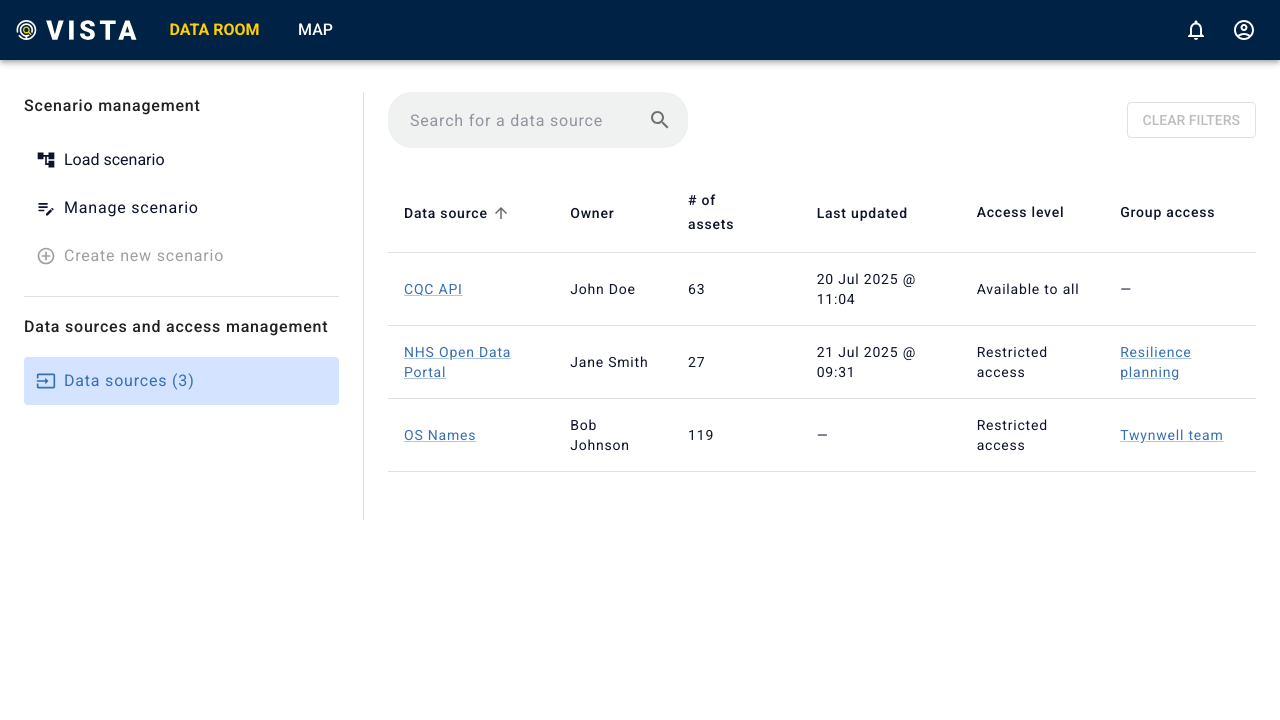
Test: DataSources › Scenario Modal › selects first scenario when no active scenario exists and no sessionStorage
Check: the link "CQC API" is shown, box left=404, top=281, right=463, bottom=297
Step 1. Click the button "Load scenario" → click(114, 160), box left=24, top=136, right=339, bottom=184
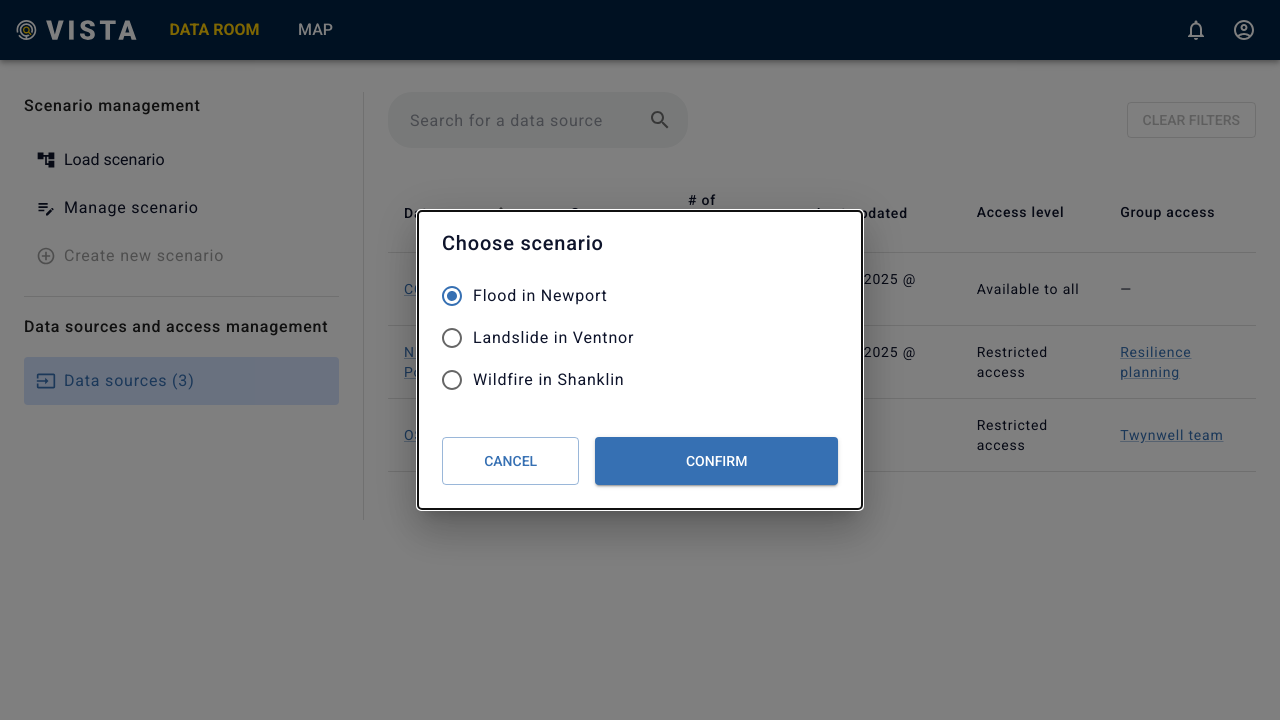
Check: the radio button labelled "Flood in Newport" is checked, box left=440, top=284, right=608, bottom=308
